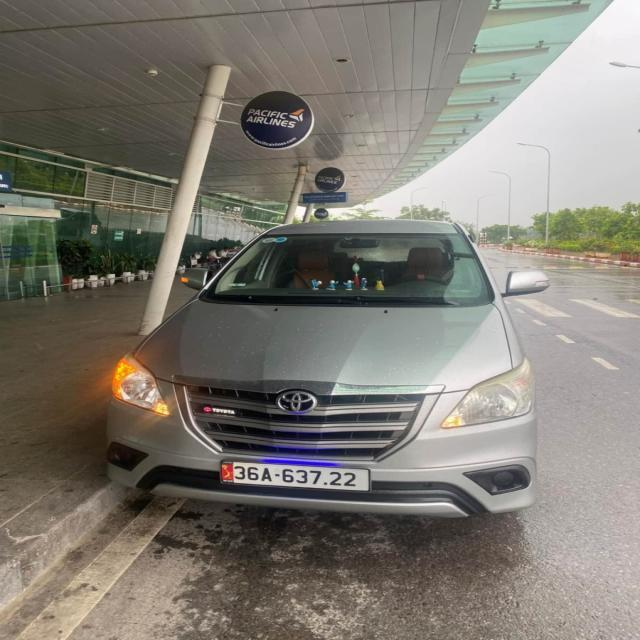car: (122, 216, 557, 529)
plate: (215, 455, 376, 497)
